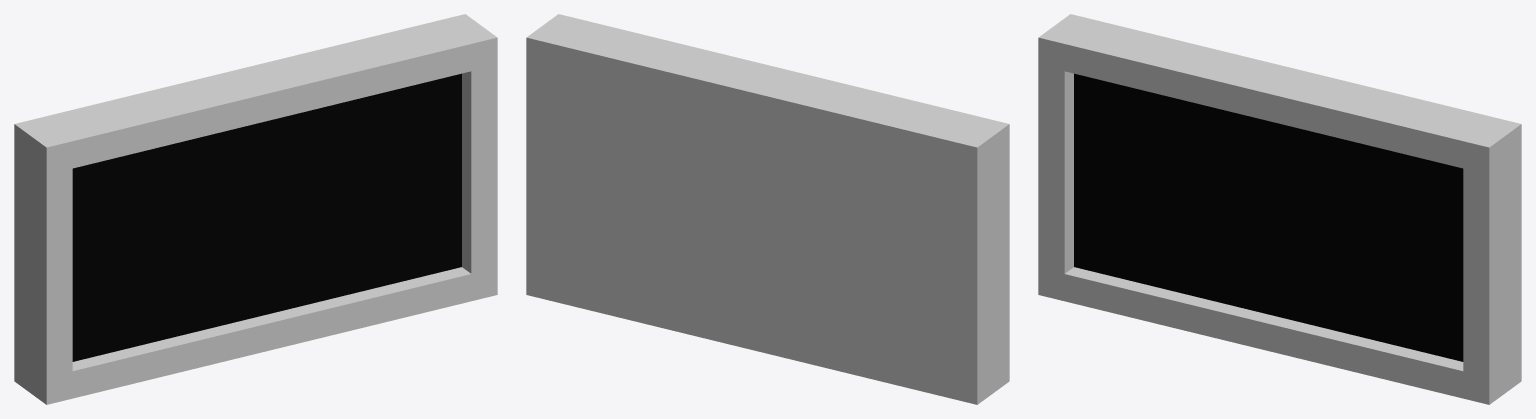
The model's file is exitSign.fbx.
3 views of the same model, side by side, from view 1: azimuth 30°, elevation 25°; view 2: azimuth 150°, elevation 25°; view 3: azimuth 330°, elevation 25° (orthographic).
Parts seen in each view (by area): view 1: Plane; view 2: Plane; view 3: Plane.
Part boxes in pixels (x1=…): Plane: x1=14, y1=14, x2=497, y2=404; Plane: x1=526, y1=14, x2=1009, y2=404; Plane: x1=1038, y1=14, x2=1521, y2=404.
Bounding box in the file's own units: 179 × 97.37 × 22.08.
2 materials, 1 textured.
